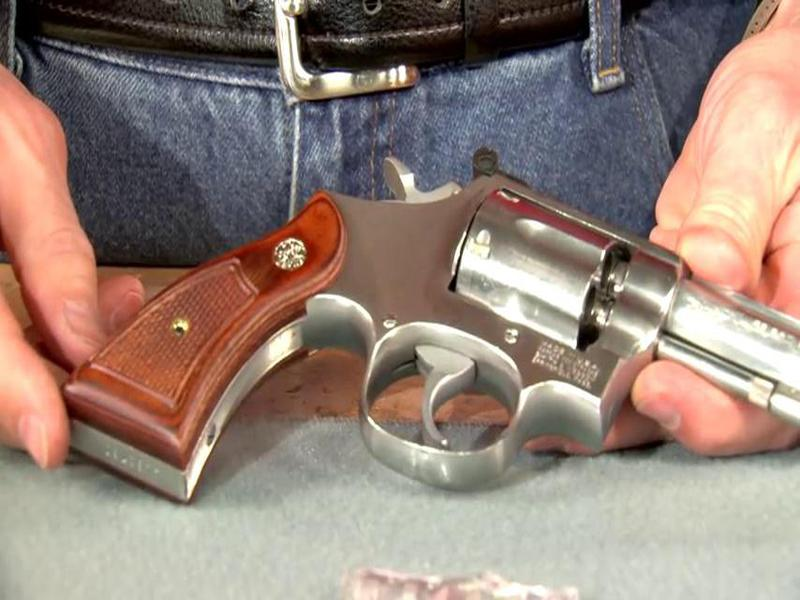Revolver: (57, 144, 800, 542)
